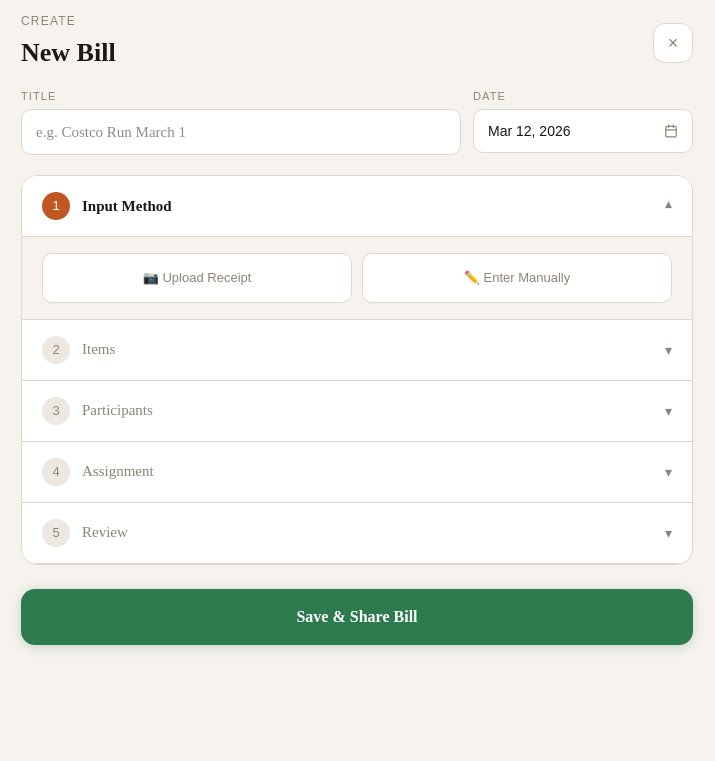
Test: BillForm component › adds participant when Enter pressed in input
Note: Go to participants section
Click the button with test id "section-header-2": (117, 410) [22, 380, 692, 442]
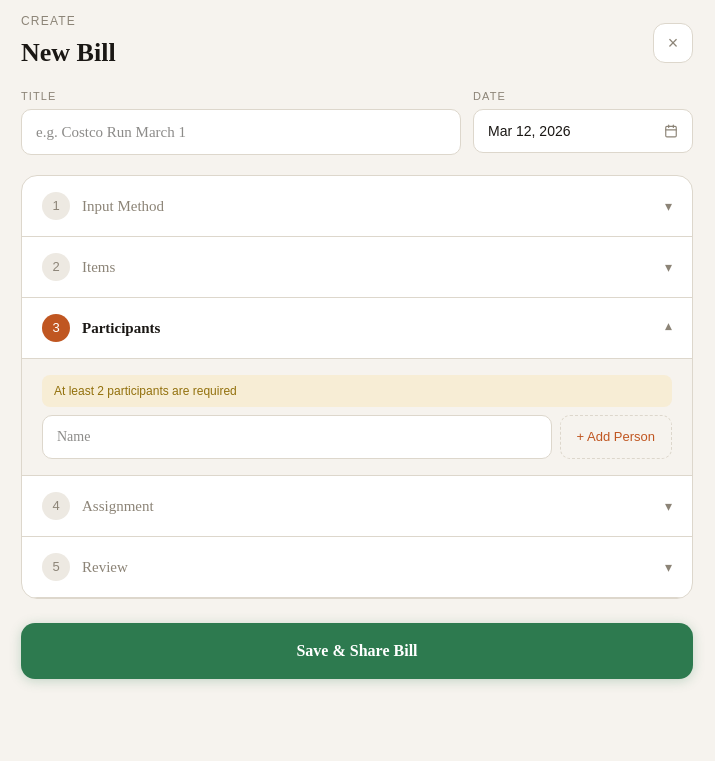
In the field with test id "participant-name-input": (297, 437) [42, 415, 552, 459], type "Alice"
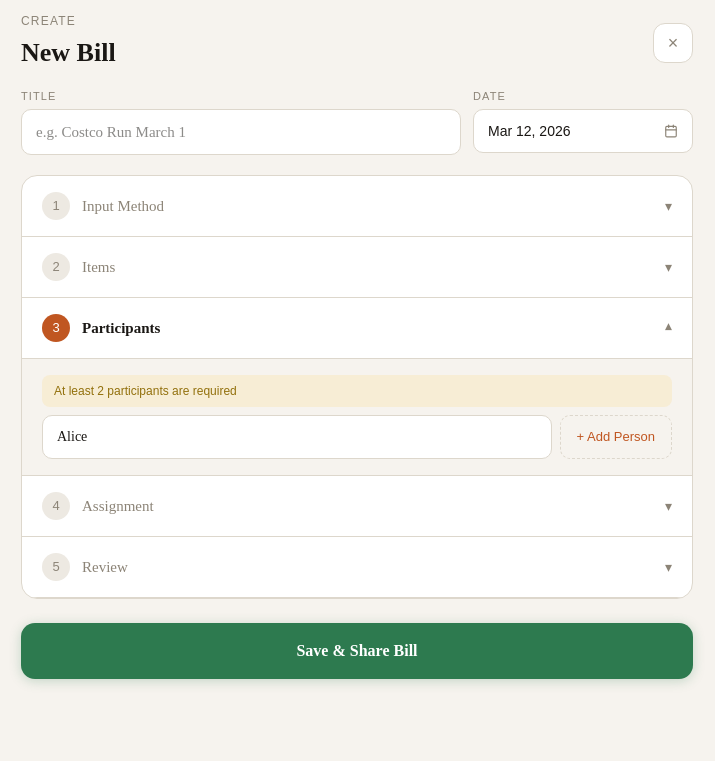
Press Enter in the field with test id "participant-name-input", box [42, 415, 552, 459]
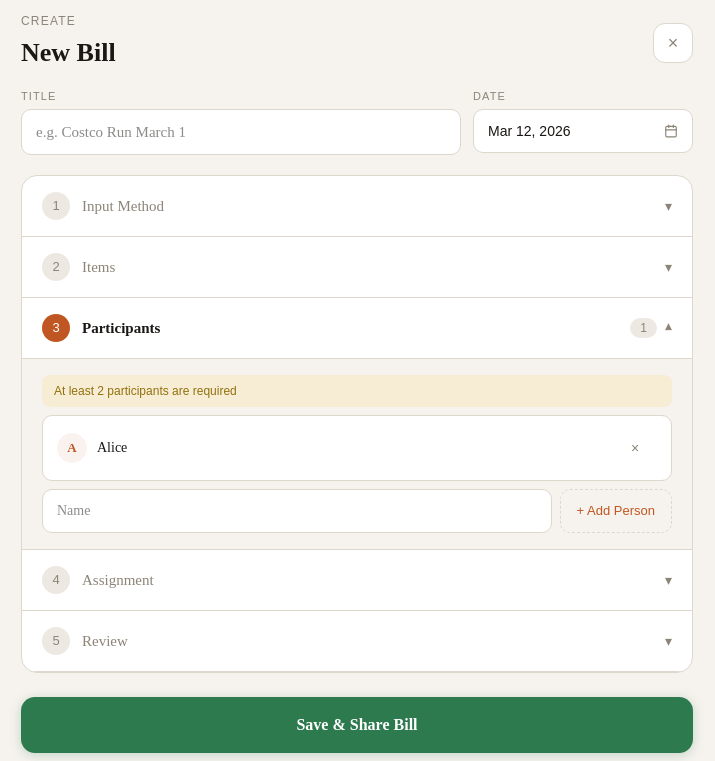
Result: the text "Alice" is shown at [97, 438, 127, 458]
